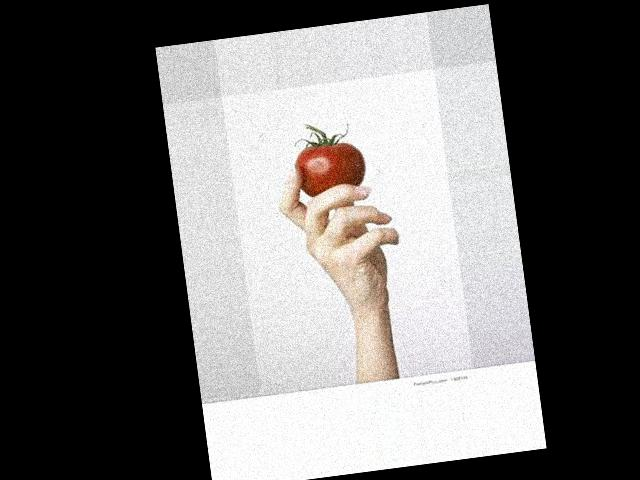tomato: (291, 118, 367, 198)
